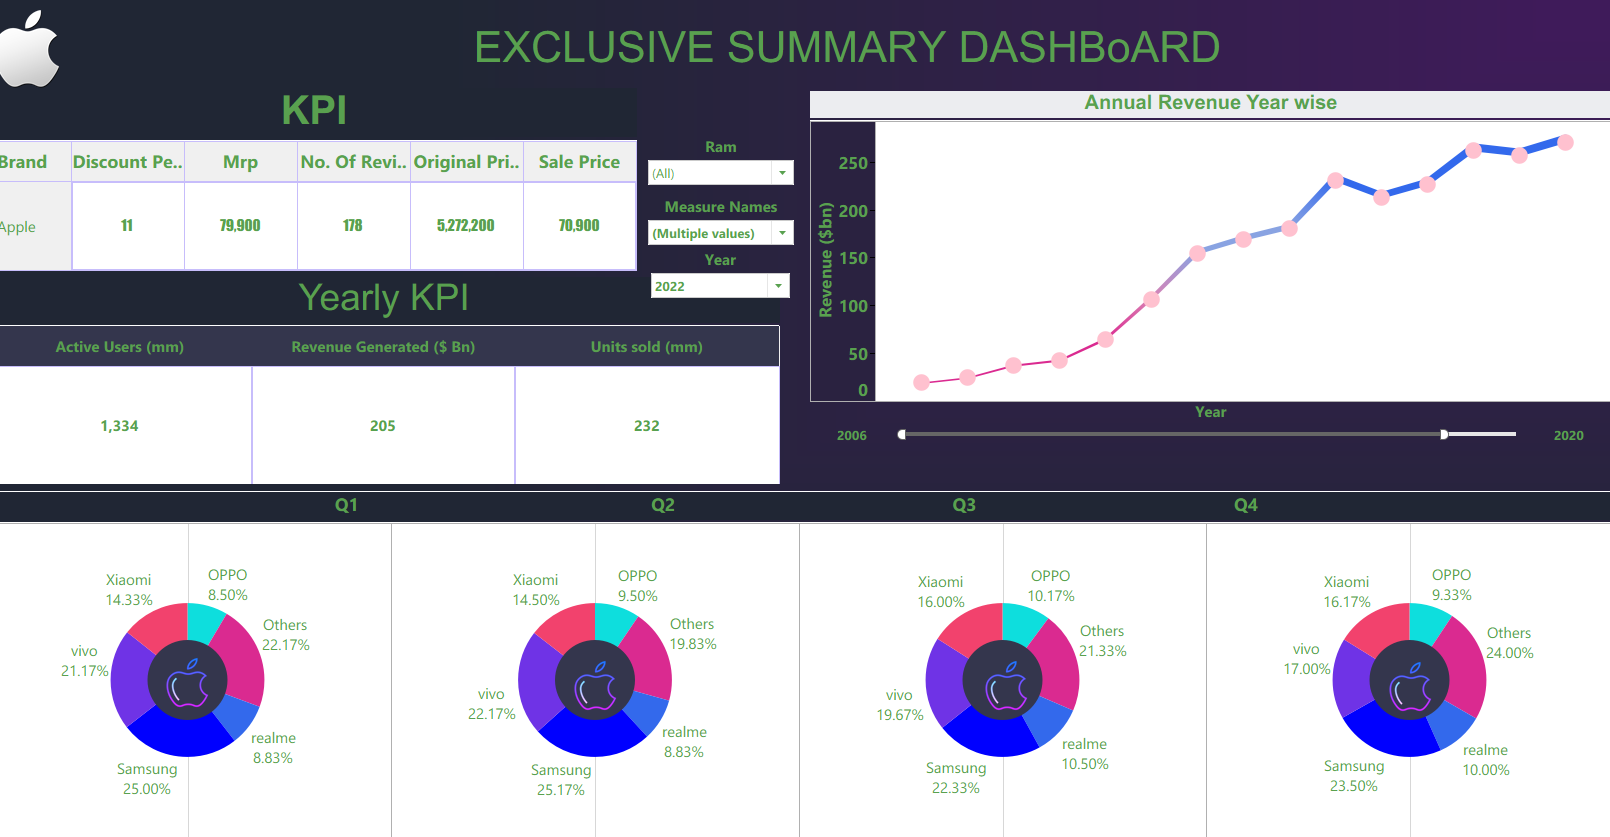

The dashboard page shown, as its layout file describes it:
{"tool":"tableau","page":{"name":"EXCLUSIVE SUMMARY DASHBOARD","canvas":[1000,1000],"units":"permille","ordinal":0},"visuals":[{"type":"image","box":[4.8,9.4,990.3,981.2]},{"type":"image","param":"Image/apple-logo-silver-gradient-background-ucqyu9mach40quya.png","box":[10.5,13.9,48,92.9]},{"type":"text","box":[61.6,18.6,937.2,81.3]},{"type":"worksheet","title":"KPI","mark":"Automatic","rows":["Brand"],"box":[12.7,106.9,390.5,214.9]},{"type":"worksheet","title":"Line Chart","mark":"Automatic","rows":["Revenue ($bn)","Revenue ($bn)"],"cols":["Year"],"box":[507.4,110.3,483.9,365.9]},{"type":"filter","title":"KPI","param":"[federated.0kz2elg1fpkxe515iu2i908za3b5].[none:Ram:nk]","box":[405.6,159.1,96.3,70.5]},{"type":"filter","title":"KPI","param":"[federated.0kz2elg1fpkxe515iu2i908za3b5].[:Measure Names]","box":[405.6,229.6,96.3,70.5]},{"type":"filter","title":"Yearly KPI","param":"[federated.13r0o2x0bvhuki190xwcz0apwvkh].[none:Year:ok]","box":[409.9,296.2,87.6,69.7]},{"type":"worksheet","title":"Yearly KPI","mark":"Automatic","box":[11.2,328.7,478.3,243.9]},{"type":"filter","title":"Line Chart","param":"[federated.1h6ibz302k1zxz15kuusk0qlljiq].[none:Year:qk]","box":[507.7,475,484.2,83.6]},{"type":"worksheet","title":"Donut Chart","mark":"Pie","cols":["Calculation_525795279736291330","Calculation_525795279737851915","Calculation_525795279736291330","Calculation_525795279737851915","Calculation_525795279736291330","Calculation_525795279737851915","Calculation_525795279736291330","Calculation_525795279737458693"],"box":[8.4,580.7,984.9,408.8]},{"type":"image","param":"Image/download.png","box":[102.8,772.4,57.3,67.4]},{"type":"image","param":"Image/download.png","box":[348.6,775.8,57.6,67.4]},{"type":"image","param":"Image/download.png","box":[596.9,775.8,57.6,67.4]},{"type":"image","param":"Image/download.png","box":[840.9,777,57.6,67.4]}]}

Visuals, with their boxes on the dashboard's canvas, which has no fixed pixel size, in thousandths of its width and height (x1, y1, x2, y2). These are canvas units, not pixel positions in the 1610x837 screenshot, which may show the page scaled, cropped or inside an application window:
image: detection(5, 9, 995, 991)
image: detection(10, 14, 58, 107)
text: detection(62, 19, 999, 100)
"KPI" worksheet: detection(13, 107, 403, 322)
"Line Chart" worksheet: detection(507, 110, 991, 476)
"KPI" filter: detection(406, 159, 502, 230)
"KPI" filter: detection(406, 230, 502, 300)
"Yearly KPI" filter: detection(410, 296, 498, 366)
"Yearly KPI" worksheet: detection(11, 329, 490, 573)
"Line Chart" filter: detection(508, 475, 992, 559)
"Donut Chart" worksheet (Pie marks): detection(8, 581, 993, 990)
image: detection(103, 772, 160, 840)
image: detection(349, 776, 406, 843)
image: detection(597, 776, 654, 843)
image: detection(841, 777, 898, 844)
